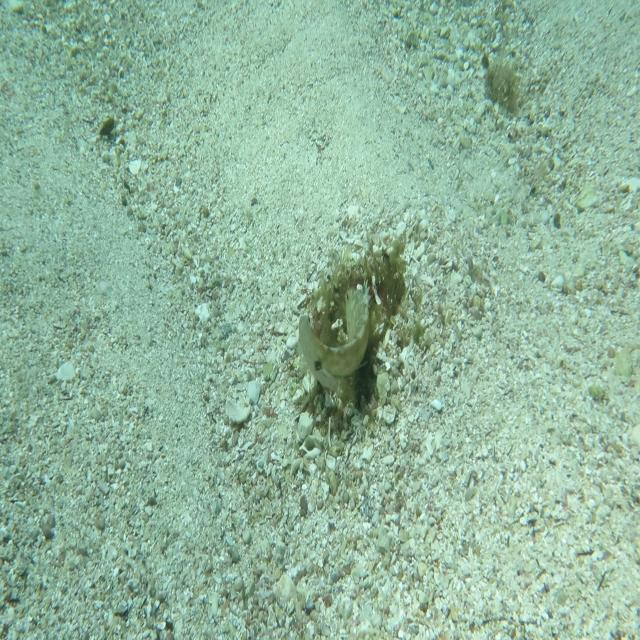BEND_OPP: (298, 274, 372, 381)
female: (296, 308, 354, 402)
nest: (293, 233, 412, 429)
